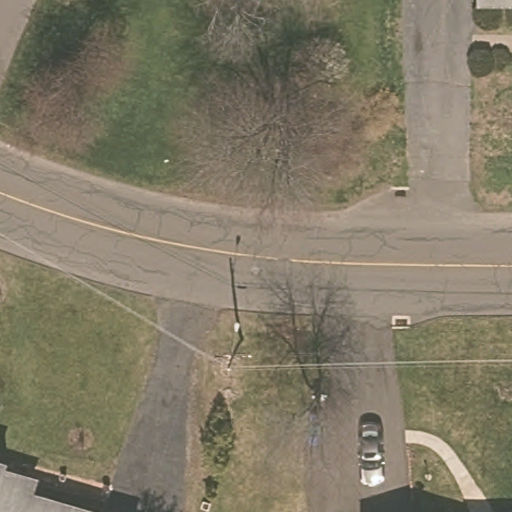DT: (212, 350, 255, 371)
